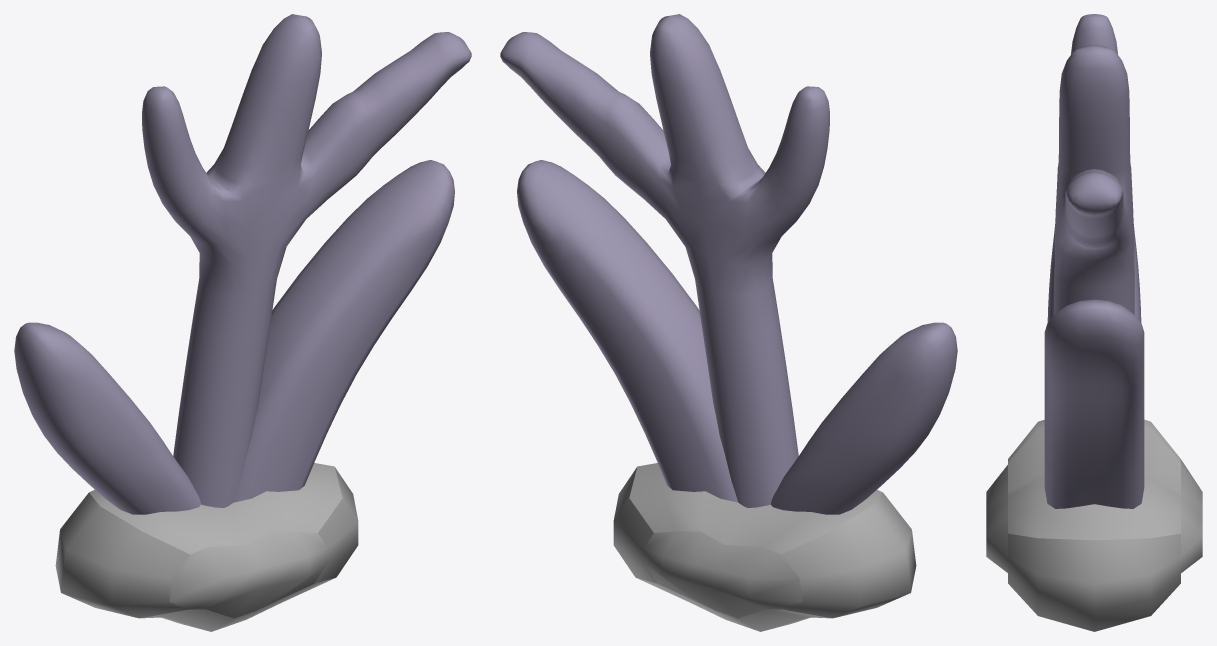
File: Coral_Ciervo.fbx
The picture shows the model from 3 angles, left to right: view 1: azimuth 30°, elevation 25°; view 2: azimuth 150°, elevation 25°; view 3: azimuth 270°, elevation 25°; orthographic projection. The views are drawn at different scales.
Parts seen in each view (by area): view 1: CoralCiervo, Roca; view 2: CoralCiervo, Roca; view 3: CoralCiervo, Roca.
Part boxes in pixels (x1,y1,x2,y2): CoralCiervo: (14, 14, 471, 514); Roca: (55, 463, 358, 631); CoralCiervo: (500, 14, 957, 514); Roca: (613, 463, 916, 631); CoralCiervo: (1044, 14, 1144, 508); Roca: (986, 419, 1202, 631).
Size of the model in its own units: 2.86 by 3.56 by 1.16.
